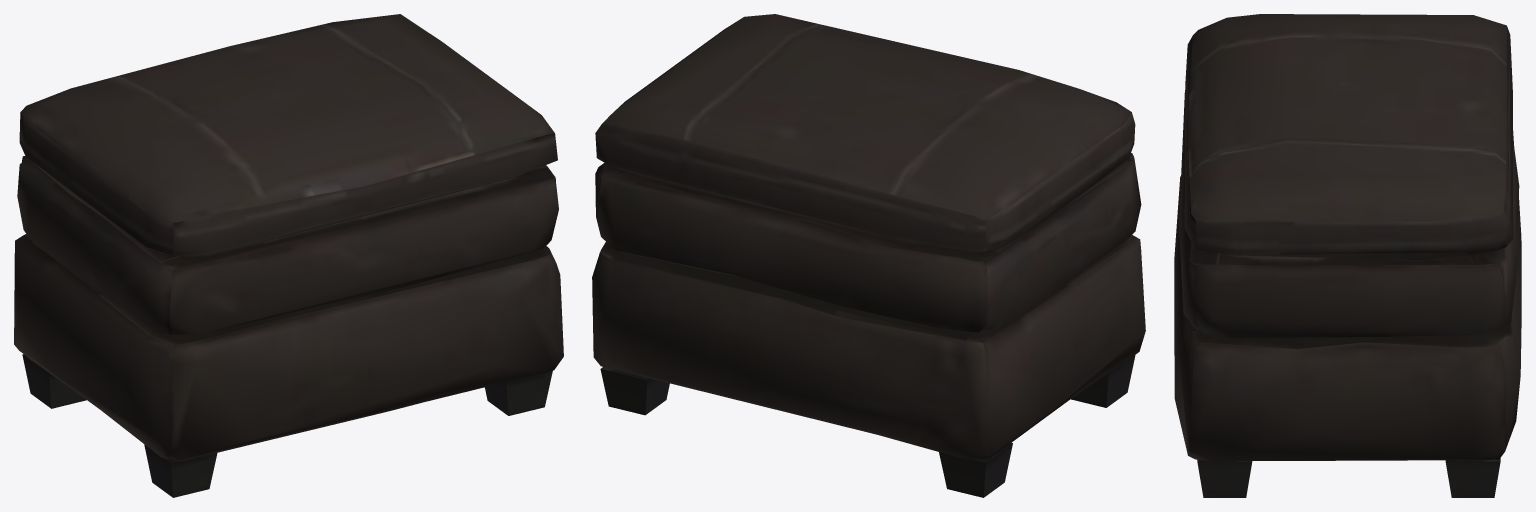
File: ottoman.glb
The picture shows the model from 3 angles, left to right: view 1: azimuth 30°, elevation 25°; view 2: azimuth 150°, elevation 25°; view 3: azimuth 270°, elevation 25°; orthographic projection. The views are drawn at different scales.
Parts seen in each view (by area): view 1: ottoman; view 2: ottoman; view 3: ottoman.
Part boxes in pixels (x1=…): ottoman: x1=14, y1=14, x2=563, y2=497; ottoman: x1=592, y1=14, x2=1145, y2=497; ottoman: x1=1174, y1=14, x2=1521, y2=497.
Size of the model in its own units: 0.882 by 0.6234 by 0.616.
Materials: 1 (1 with a texture image).
